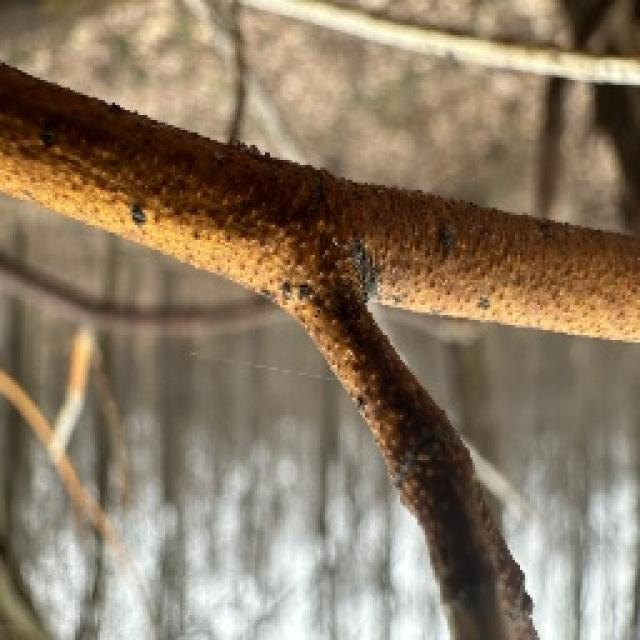Golden_canker: (0, 2, 638, 638)
